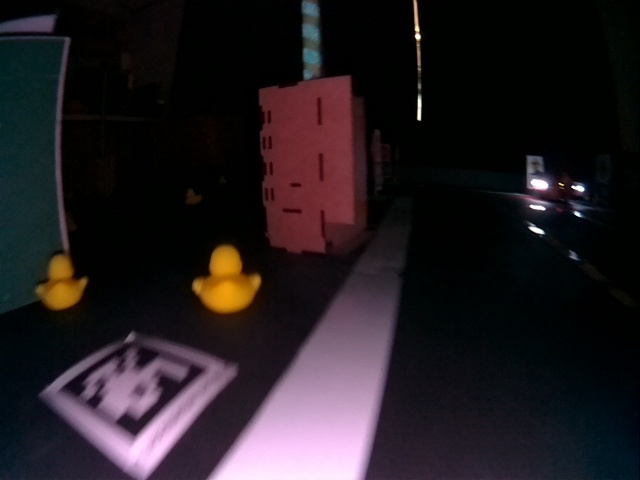Duckie: (194, 245, 260, 309), (36, 256, 86, 309)
Duckiebot: (530, 172, 585, 201)
QR code: (47, 331, 237, 463)
